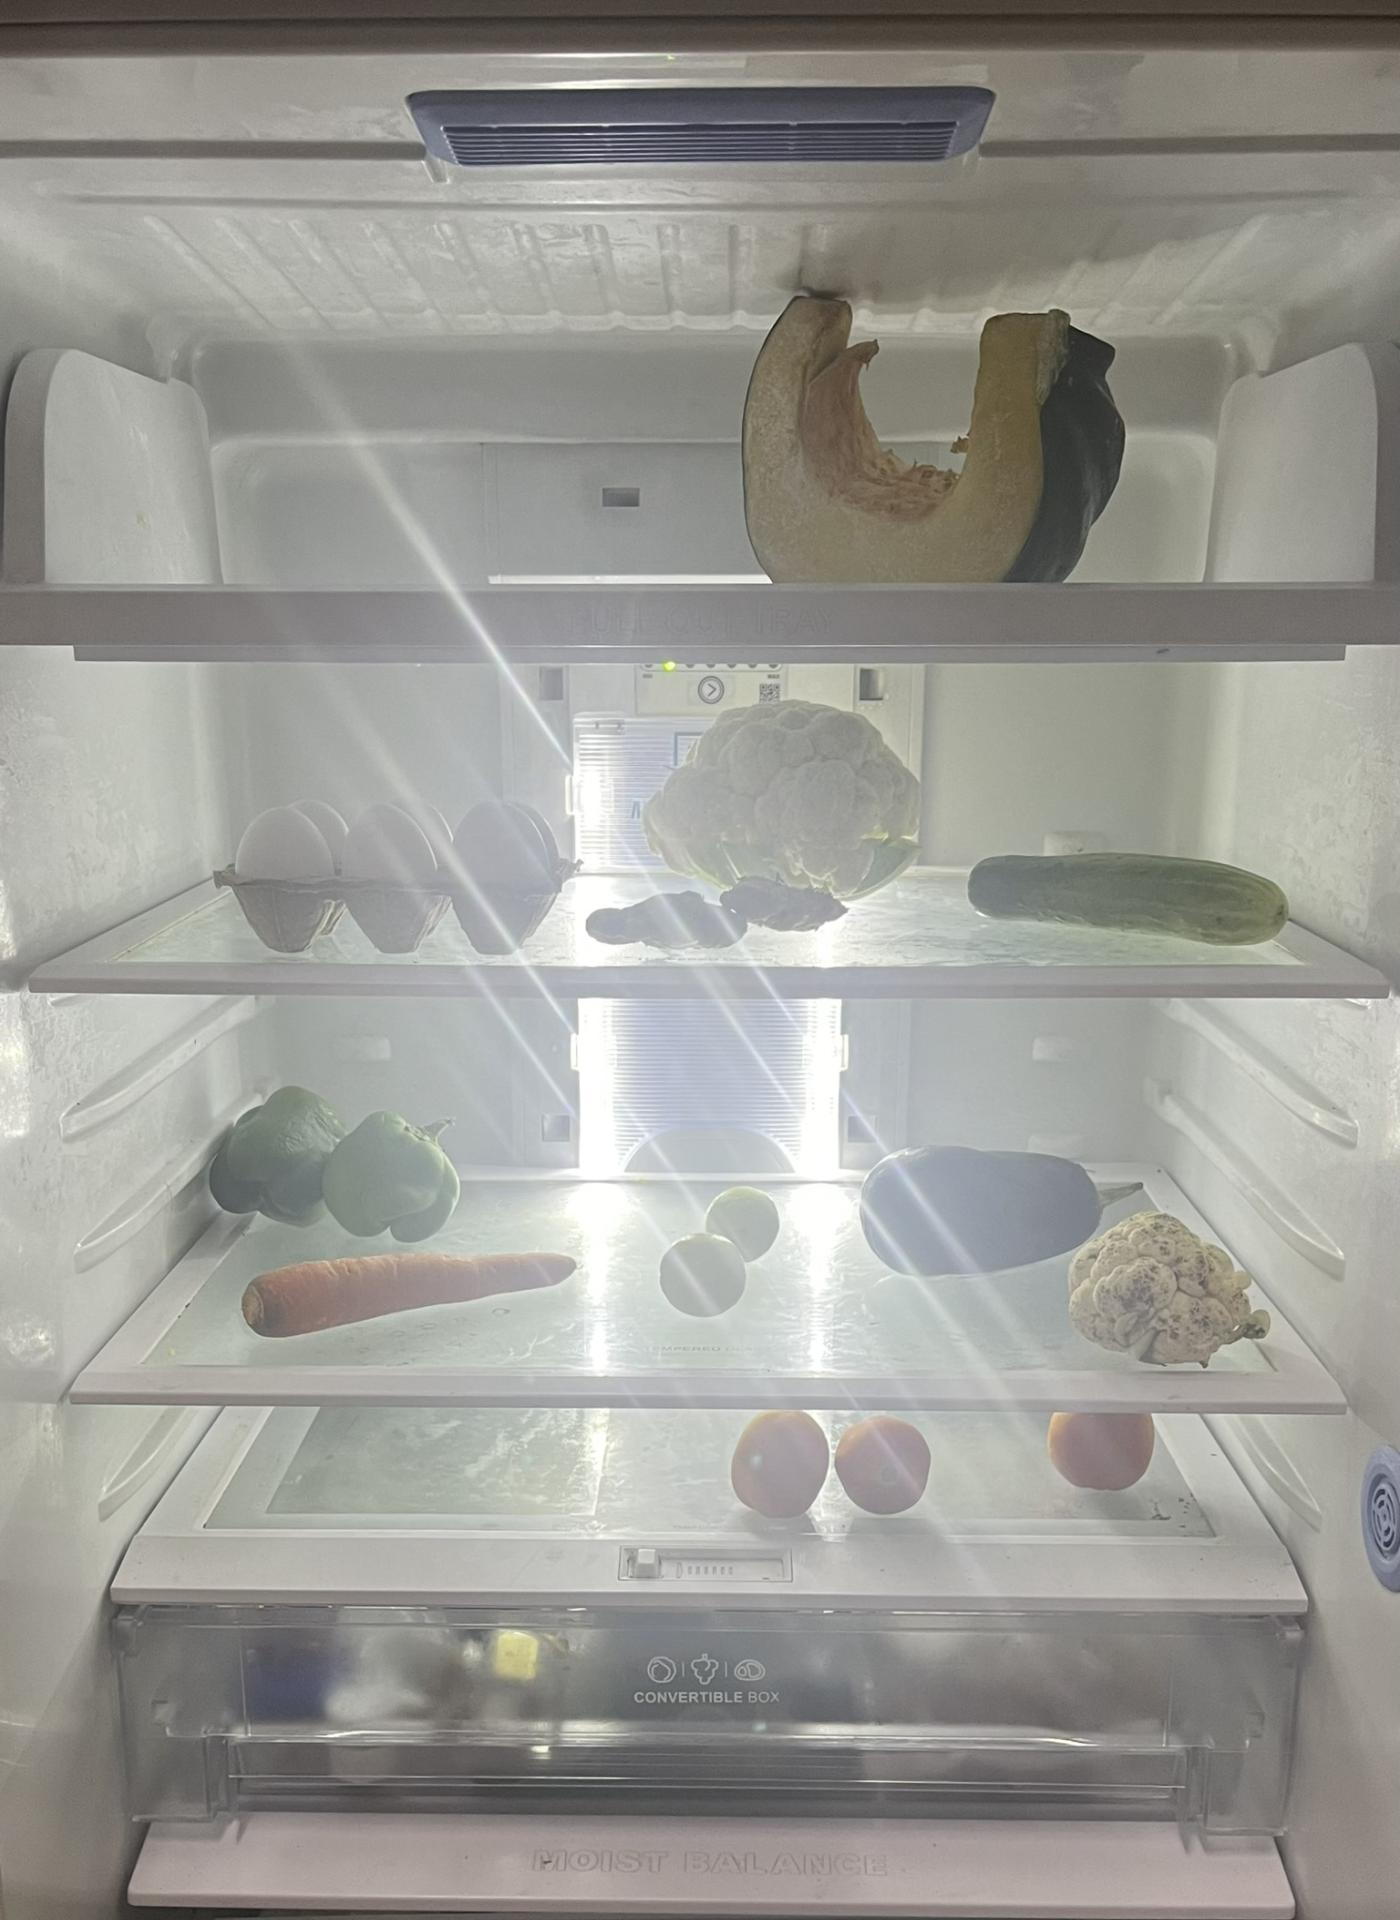brinjal: (851, 1137, 1145, 1269)
capsicum: (219, 1091, 459, 1240)
carrots: (221, 1245, 576, 1342)
cauliflower: (637, 704, 924, 906), (1069, 1209, 1273, 1362)
cucumber: (968, 841, 1303, 936)
egg: (216, 790, 570, 950)
ginger: (595, 884, 853, 947)
lemon: (652, 1182, 792, 1324)
pumpkin: (740, 279, 1135, 589)
tomato: (725, 1406, 832, 1529), (833, 1413, 933, 1519), (1042, 1410, 1163, 1492)
